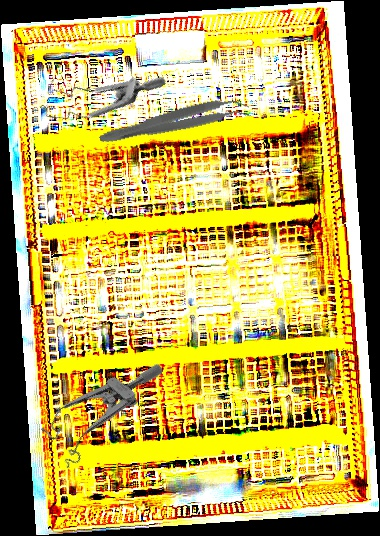Speculum: (31, 332, 166, 478), (30, 23, 168, 159)
Tissue Forceps: (97, 91, 252, 155)
